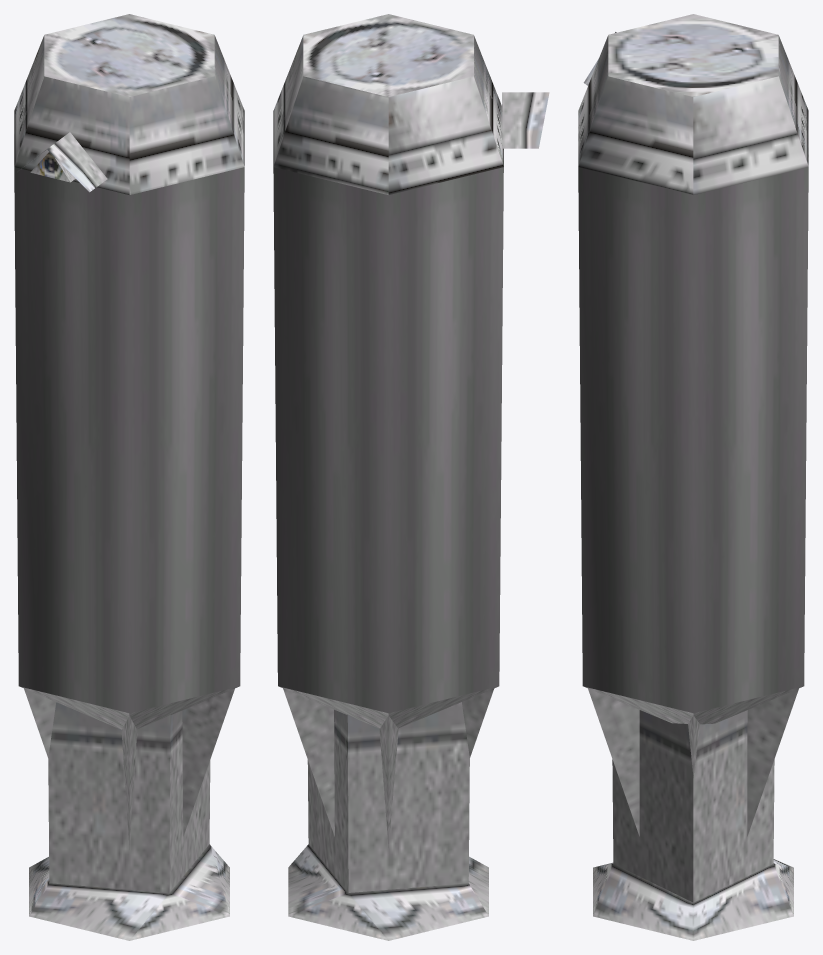
The model's file is eqp_medic_antidote_lg_s1_l1.fbx.
3 renders of one model, left to right at view 1: azimuth 30°, elevation 25°; view 2: azimuth 150°, elevation 25°; view 3: azimuth 270°, elevation 25°, orthographic.
Visible parts, largest first — view 1: mesh_node; view 2: mesh_node; view 3: mesh_node.
Boxes of the visible parts, bbox=[...] form: mesh_node: bbox=[14, 14, 244, 940]; mesh_node: bbox=[273, 14, 549, 940]; mesh_node: bbox=[578, 14, 808, 940].
Bounding box in the file's own units: 0.0934 × 0.301 × 0.0751.
